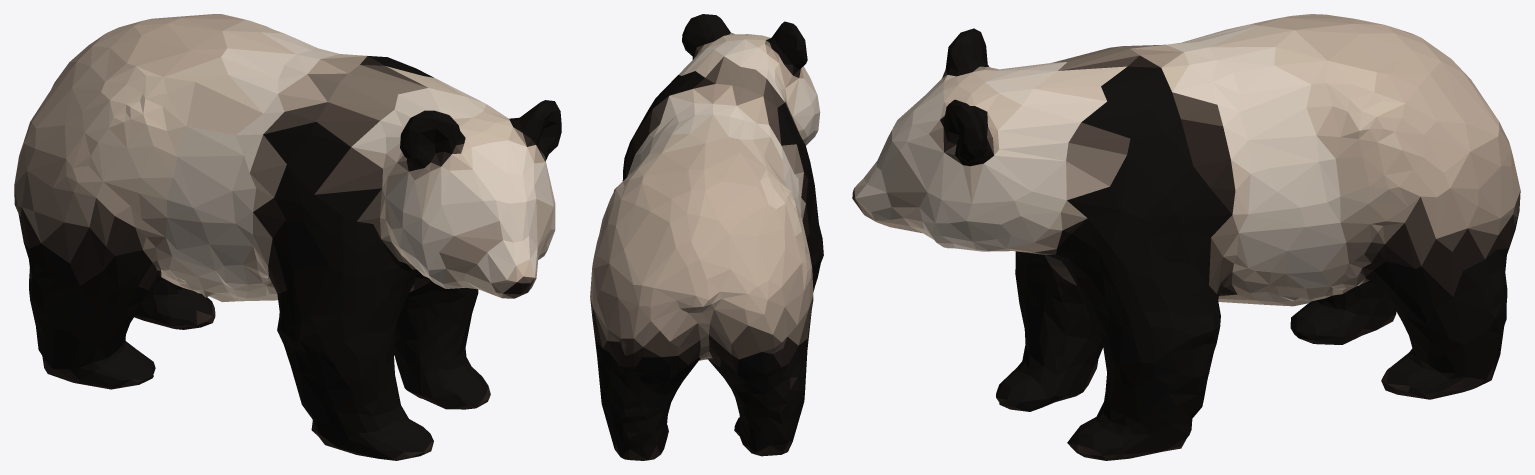
The model's file is wild-panda.glb.
3 views of the same model, side by side, from view 1: azimuth 30°, elevation 25°; view 2: azimuth 150°, elevation 25°; view 3: azimuth 270°, elevation 25° (orthographic). The views are drawn at different scales.
Parts seen in each view (by area): view 1: low-poly-panda; view 2: low-poly-panda; view 3: low-poly-panda.
Part boxes in pixels (<box>): low-poly-panda: <box>14,14,561,460</box>; low-poly-panda: <box>590,14,823,460</box>; low-poly-panda: <box>852,14,1520,460</box>.
Bounding box in the file's own units: 0.9589 × 0.9771 × 1.6.
1 material, 1 textured.
